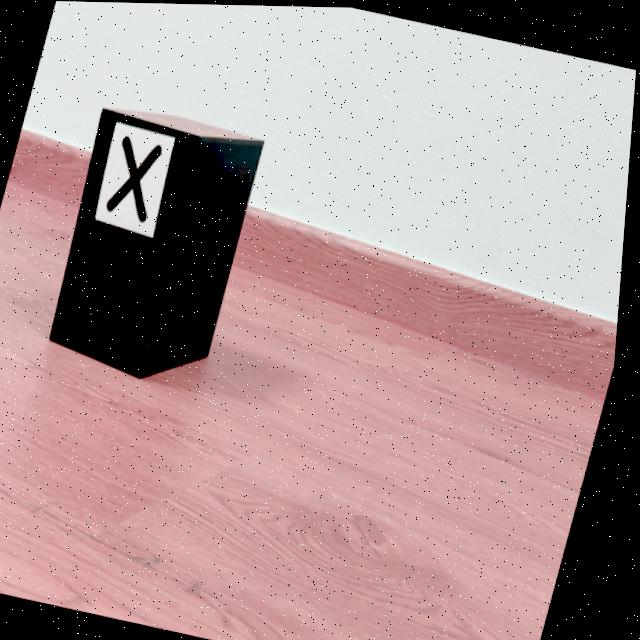X: (109, 135, 164, 222)
